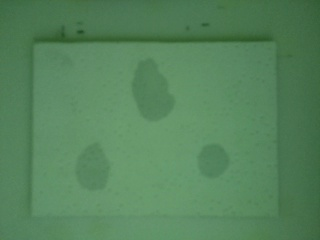Water_detected: (126, 62, 179, 116), (76, 144, 117, 189), (196, 145, 224, 179)
